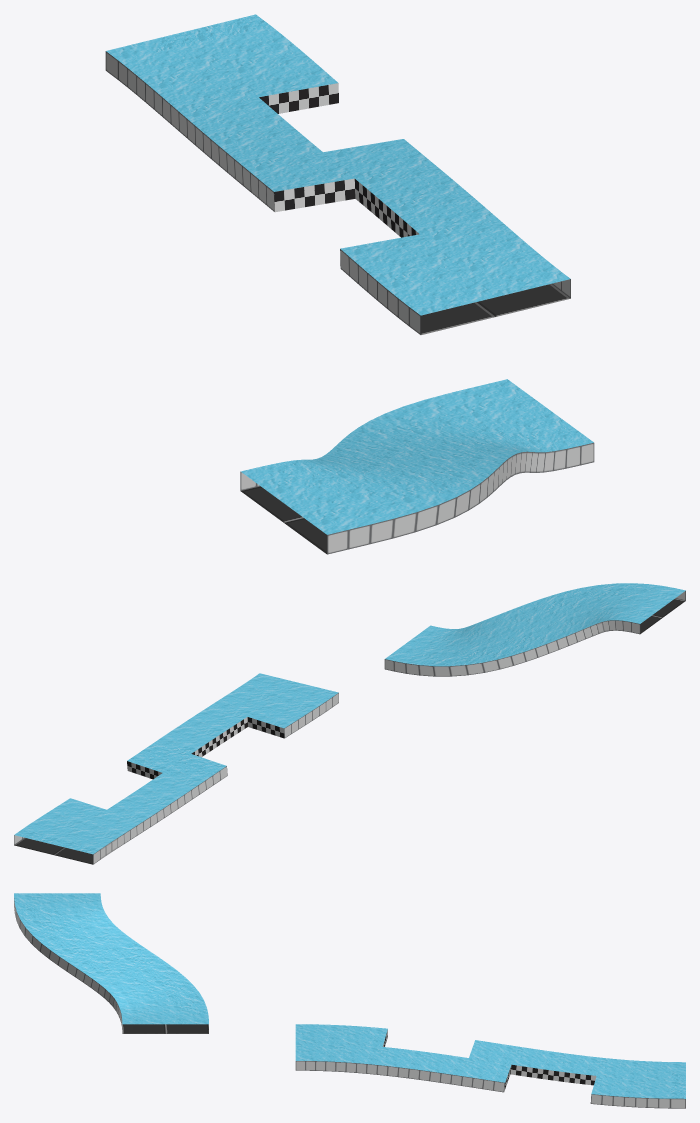
Rendered from IvresseIceCurves.obj.
3 renders of one model, top to bottom at view 1: azimuth 30°, elevation 25°; view 2: azimuth 150°, elevation 25°; view 3: azimuth 270°, elevation 25°, orthographic. The views are drawn at different scales.
Parts seen in each view (by area): view 1: Cube.001_Cube.002, Cube_Cube.001, Plane.002, Plane.006, Plane; view 2: Cube.001_Cube.002, Cube_Cube.001, Plane; view 3: Cube.001_Cube.002, Cube_Cube.001, Plane.001_Plane.009.
Boxes of the visible parts, bbox=[...] form: Cube.001_Cube.002: bbox=[105, 14, 570, 334]; Cube_Cube.001: bbox=[240, 379, 594, 554]; Plane.002: bbox=[274, 178, 355, 212]; Plane.006: bbox=[259, 83, 338, 113]; Plane: bbox=[354, 179, 419, 237]; Cube.001_Cube.002: bbox=[14, 673, 338, 864]; Cube_Cube.001: bbox=[384, 583, 685, 676]; Plane: bbox=[191, 717, 247, 757]; Cube.001_Cube.002: bbox=[295, 1024, 685, 1108]; Cube_Cube.001: bbox=[14, 893, 208, 1033]; Plane.001_Plane.009: bbox=[510, 1064, 596, 1085].
Bounding box in the file's own units: 16 × 3.5 × 31.
